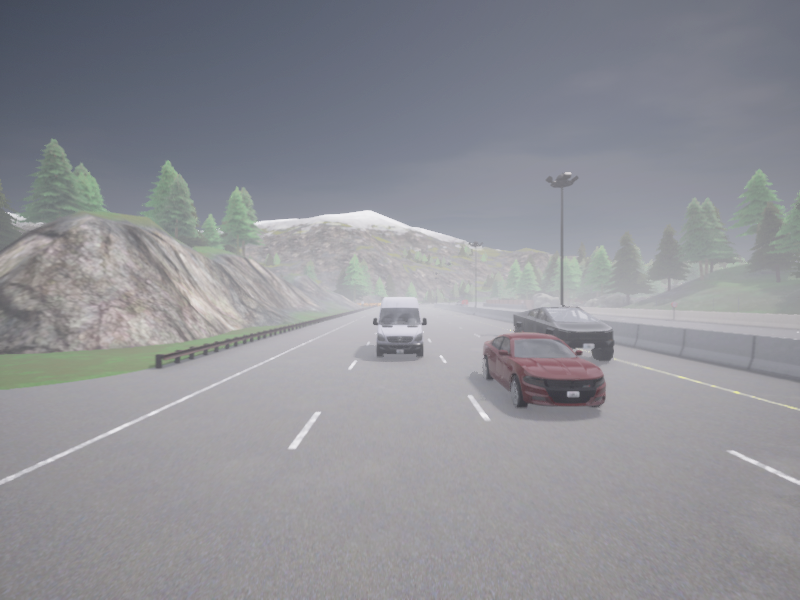vehicle: (482, 330, 605, 407), (513, 307, 613, 360), (373, 297, 426, 357), (462, 300, 467, 305), (454, 303, 461, 305), (458, 301, 461, 304)
